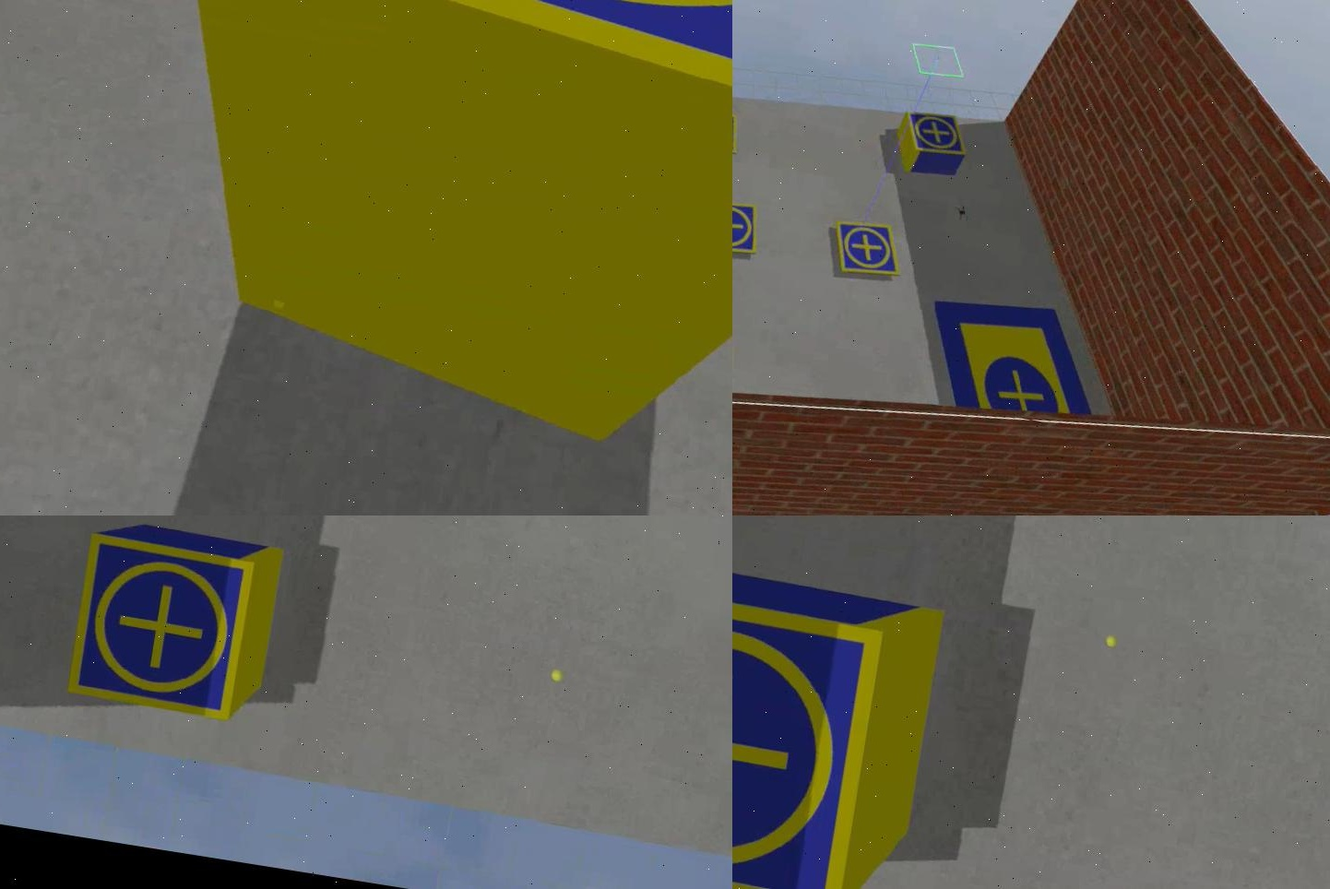large_base: (918, 290, 1105, 428)
small_base: (166, 1, 731, 160), (731, 579, 885, 889), (63, 534, 256, 725), (826, 218, 907, 282), (898, 108, 968, 164), (731, 195, 764, 260)
